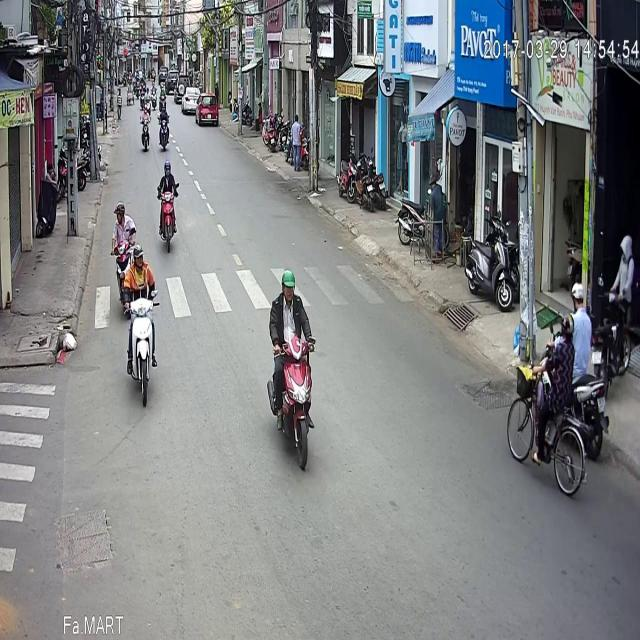bicycle: (263, 210, 317, 410)
car: (195, 34, 219, 68)
motorcycle: (508, 252, 586, 438), (562, 221, 610, 403), (127, 188, 157, 348), (110, 142, 136, 263), (157, 44, 169, 94), (139, 46, 151, 92)
